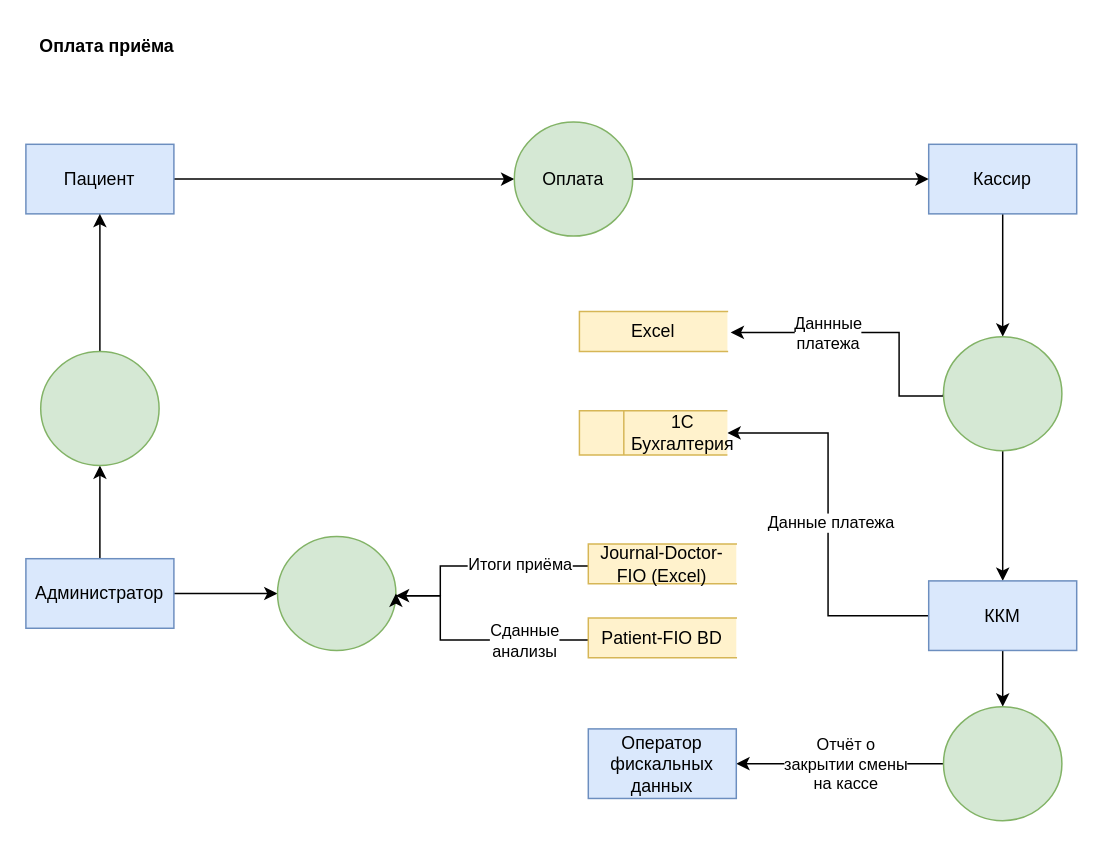
Some shapes in this 1103 by 847 pixel diagram are drawn without their labels. The box of each missing label's shape, as (x1, y1, x2, y2) in pixels:
Выставление счёта: (39, 350, 159, 465)
Оценка оказанных услуг: (276, 535, 396, 650)
Учёт платежа: (942, 335, 1062, 451)
Формиро-вание фискального отчёта: (942, 705, 1062, 821)
